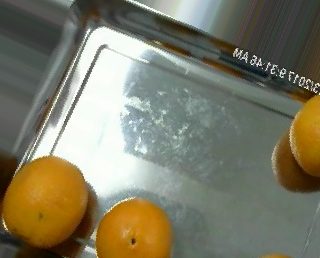Orange: (1, 155, 88, 248), (96, 195, 172, 258)
